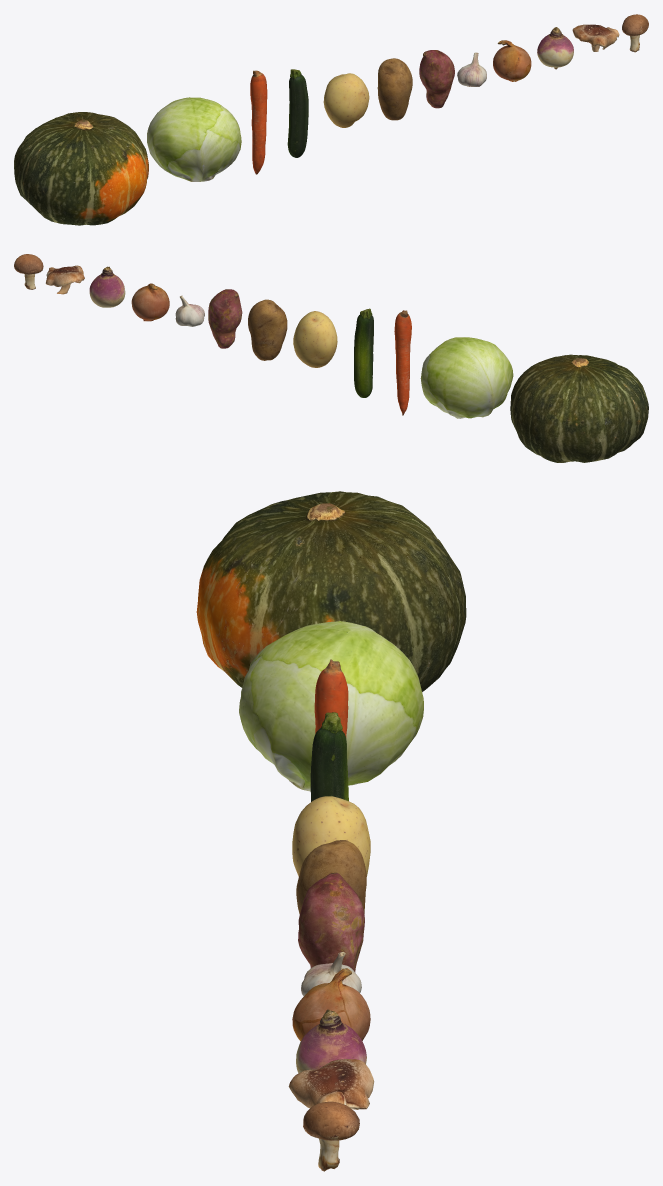
Rendered from Veg.fbx.
The picture shows the model from 3 angles, top to bottom: view 1: azimuth 30°, elevation 25°; view 2: azimuth 150°, elevation 25°; view 3: azimuth 270°, elevation 25°; orthographic projection. The views are drawn at different scales.
Visible parts, largest first — view 1: SM_Food_Squash01, SM_Food_Cabbage01, SM_Food_Potato02, SM_Food_Potato01, SM_Food_Corgette01, SM_SweetPotato01, SM_Food_Carrot01, SM_Food_Onion01, SM_Food_Turnip01, SM_Food_Mush01, SM_Food_Garlic01, SM_Food_Mush02; view 2: SM_Food_Squash01, SM_Food_Cabbage01, SM_Food_Potato02, SM_Food_Potato01, SM_Food_Corgette01, SM_SweetPotato01, SM_Food_Carrot01, SM_Food_Onion01, SM_Food_Turnip01, SM_Food_Mush01, SM_Food_Mush02, SM_Food_Garlic01; view 3: SM_Food_Squash01, SM_Food_Cabbage01, SM_SweetPotato01, SM_Food_Potato02, SM_Food_Mush01, SM_Food_Onion01, SM_Food_Corgette01, SM_Food_Potato01, SM_Food_Turnip01, SM_Food_Mush02, SM_Food_Carrot01, SM_Food_Garlic01.
Boxes of the visible parts, x1,y1,x2,y2 form: SM_Food_Squash01: (14,112,148,225); SM_Food_Cabbage01: (147,97,241,181); SM_Food_Potato02: (323,73,369,127); SM_Food_Potato01: (377,58,412,120); SM_Food_Corgette01: (287,69,308,157); SM_SweetPotato01: (419,50,454,108); SM_Food_Carrot01: (250,70,267,174); SM_Food_Onion01: (493,40,531,81); SM_Food_Turnip01: (537,27,573,69); SM_Food_Mush01: (572,24,619,51); SM_Food_Garlic01: (457,52,486,86); SM_Food_Mush02: (622,14,648,52); SM_Food_Squash01: (510,354,648,462); SM_Food_Cabbage01: (420,337,513,418); SM_Food_Potato02: (293,311,337,367); SM_Food_Potato01: (248,299,287,360); SM_Food_Corgette01: (354,308,373,397); SM_SweetPotato01: (208,289,242,348); SM_Food_Carrot01: (394,310,411,415); SM_Food_Onion01: (131,283,169,321); SM_Food_Turnip01: (89,266,125,307); SM_Food_Mush01: (45,265,84,294); SM_Food_Mush02: (14,254,43,289); SM_Food_Garlic01: (175,295,204,326); SM_Food_Squash01: (196,491,466,691); SM_Food_Cabbage01: (239,621,423,791); SM_SweetPotato01: (298,872,364,972); SM_Food_Potato02: (292,796,370,876); SM_Food_Mush01: (288,1059,374,1109); SM_Food_Onion01: (292,968,370,1041); SM_Food_Corgette01: (310,712,348,801); SM_Food_Potato01: (296,840,366,914); SM_Food_Turnip01: (296,1009,366,1073); SM_Food_Mush02: (303,1101,359,1171); SM_Food_Carrot01: (314,659,348,737); SM_Food_Garlic01: (301,952,361,996).
Bounding box in the file's own units: 163 × 26.26 × 30.59.
